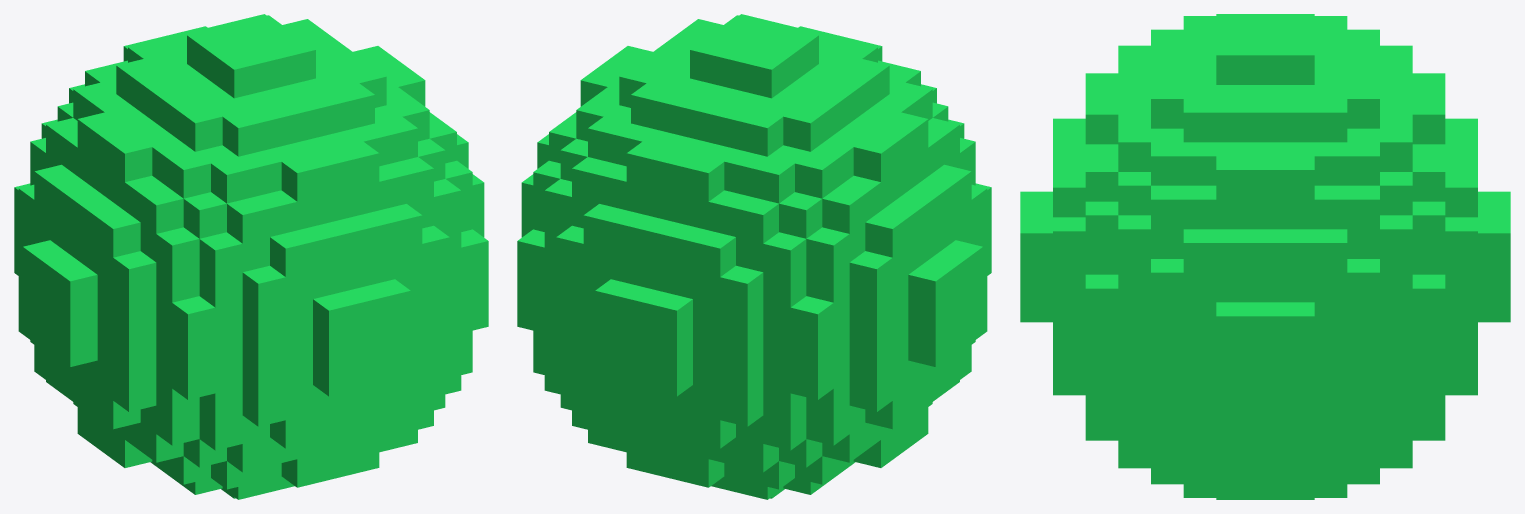
Rendered from crystal4.glb.
3 views of the same model, side by side, from view 1: azimuth 30°, elevation 25°; view 2: azimuth 150°, elevation 25°; view 3: azimuth 270°, elevation 25° (orthographic). The views are drawn at different scales.
Parts seen in each view (by area): view 1: Sphere; view 2: Sphere; view 3: Sphere.
Boxes of the visible parts, x1,y1,x2,y2 form: Sphere: [14, 14, 488, 499]; Sphere: [517, 14, 991, 499]; Sphere: [1020, 14, 1510, 499].
Bounding box in the file's own units: 2.08 × 2.08 × 2.08.
